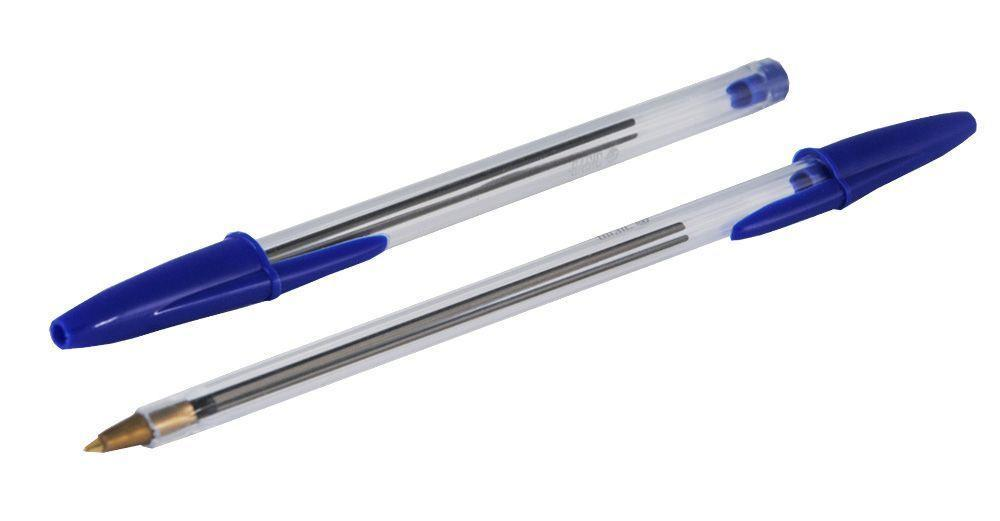pen-pencil: (78, 112, 975, 453), (51, 60, 788, 348)
